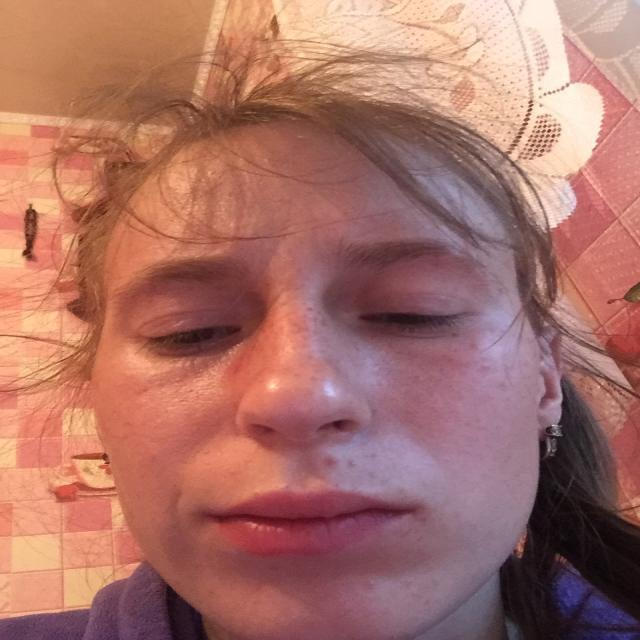acne: (468, 338, 498, 372), (356, 574, 380, 598), (314, 452, 340, 470), (343, 456, 364, 470)
pores: (169, 168, 232, 256), (143, 367, 229, 425)
wrinkle: (190, 414, 234, 467), (402, 429, 448, 472), (167, 488, 189, 546)
